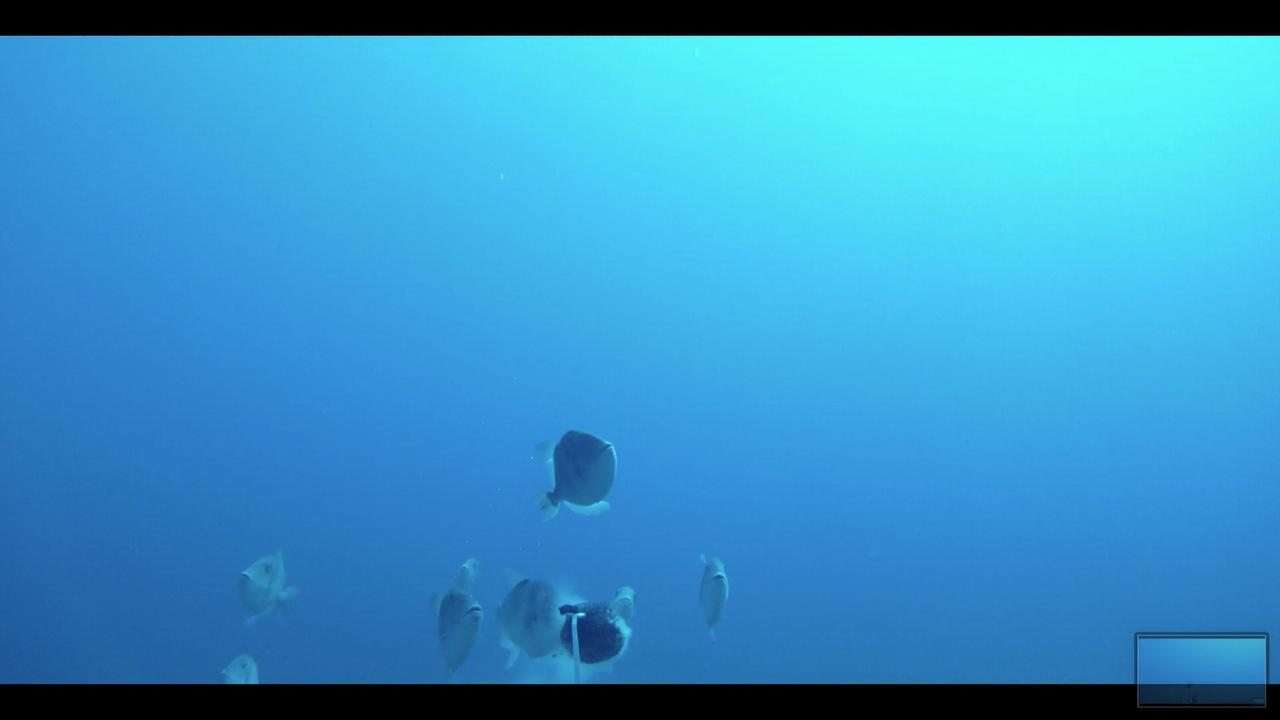balistes: (530, 420, 622, 530), (486, 562, 566, 671), (416, 580, 485, 681), (225, 545, 302, 631), (694, 549, 737, 642), (604, 580, 643, 628)
